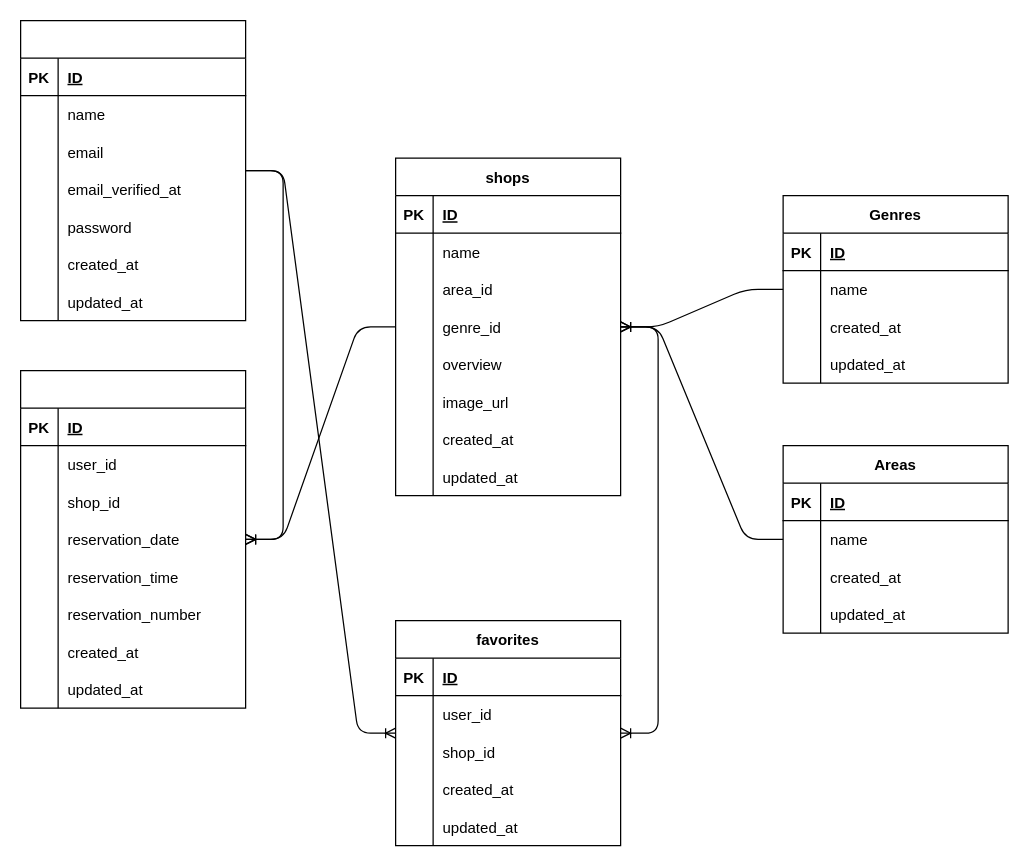
This 1029x866 diagram has some shape labels left out. Here are the shapes that lost their labels. From the top down, the box of each, then its label:
(19, 19, 246, 321): users
(19, 369, 246, 708): reservations
